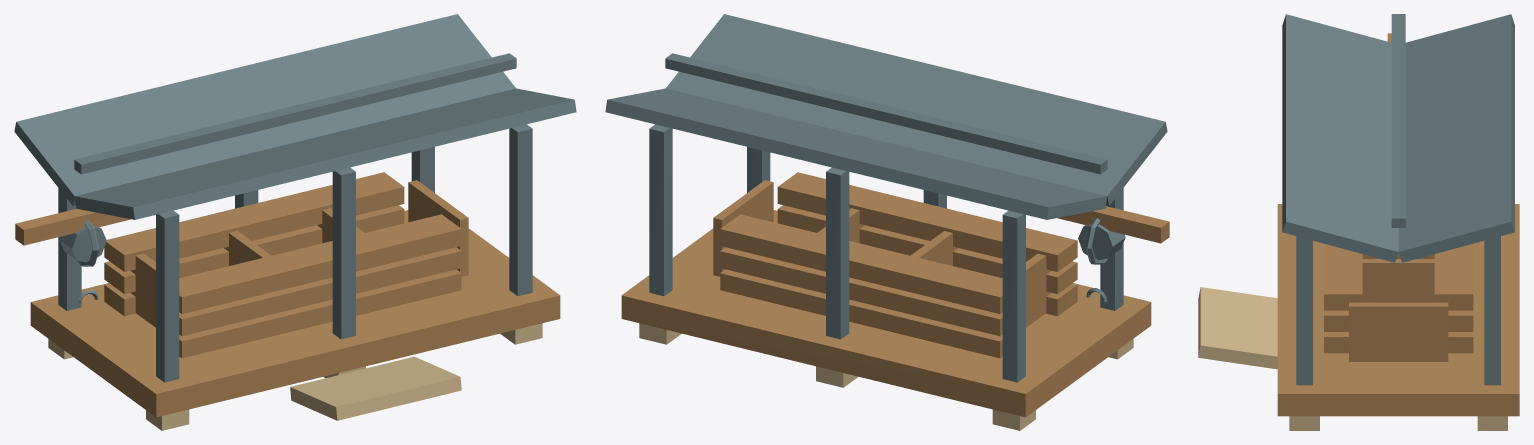
File: Lumber-Yard.glb
The picture shows the model from 3 angles, left to right: view 1: azimuth 30°, elevation 25°; view 2: azimuth 150°, elevation 25°; view 3: azimuth 270°, elevation 25°; orthographic projection. The views are drawn at different scales.
Visible parts, largest first — view 1: wind-pump-static-lumber-yard-galvanized-roof, wind-pump-static-lumber-yard-frame-timber, wind-pump-static-lumber-yard-stacked-lumber, wind-pump-static-lumber-yard-dark-iron, wind-pump-static-lumber-yard-stone-feet; view 2: wind-pump-static-lumber-yard-galvanized-roof, wind-pump-static-lumber-yard-frame-timber, wind-pump-static-lumber-yard-stacked-lumber, wind-pump-static-lumber-yard-dark-iron, wind-pump-static-lumber-yard-stone-feet; view 3: wind-pump-static-lumber-yard-galvanized-roof, wind-pump-static-lumber-yard-frame-timber, wind-pump-static-lumber-yard-dark-iron, wind-pump-static-lumber-yard-stacked-lumber, wind-pump-static-lumber-yard-stone-feet.
Part boxes in pixels (x1,y1,x2,y2): wind-pump-static-lumber-yard-galvanized-roof: (14,14,576,219); wind-pump-static-lumber-yard-frame-timber: (15,180,560,417); wind-pump-static-lumber-yard-stacked-lumber: (104,172,461,358); wind-pump-static-lumber-yard-dark-iron: (58,53,532,382); wind-pump-static-lumber-yard-stone-feet: (48,323,542,430); wind-pump-static-lumber-yard-galvanized-roof: (605,14,1167,219); wind-pump-static-lumber-yard-frame-timber: (621,180,1169,417); wind-pump-static-lumber-yard-stacked-lumber: (720,172,1077,358); wind-pump-static-lumber-yard-dark-iron: (649,53,1125,382); wind-pump-static-lumber-yard-stone-feet: (639,323,1133,430); wind-pump-static-lumber-yard-galvanized-roof: (1282,14,1514,262); wind-pump-static-lumber-yard-frame-timber: (1277,33,1519,416); wind-pump-static-lumber-yard-dark-iron: (1296,14,1500,385); wind-pump-static-lumber-yard-stacked-lumber: (1324,243,1473,353); wind-pump-static-lumber-yard-stone-feet: (1198,287,1507,430).
Size of the model in its own units: 4 by 1.8 by 2.32.
